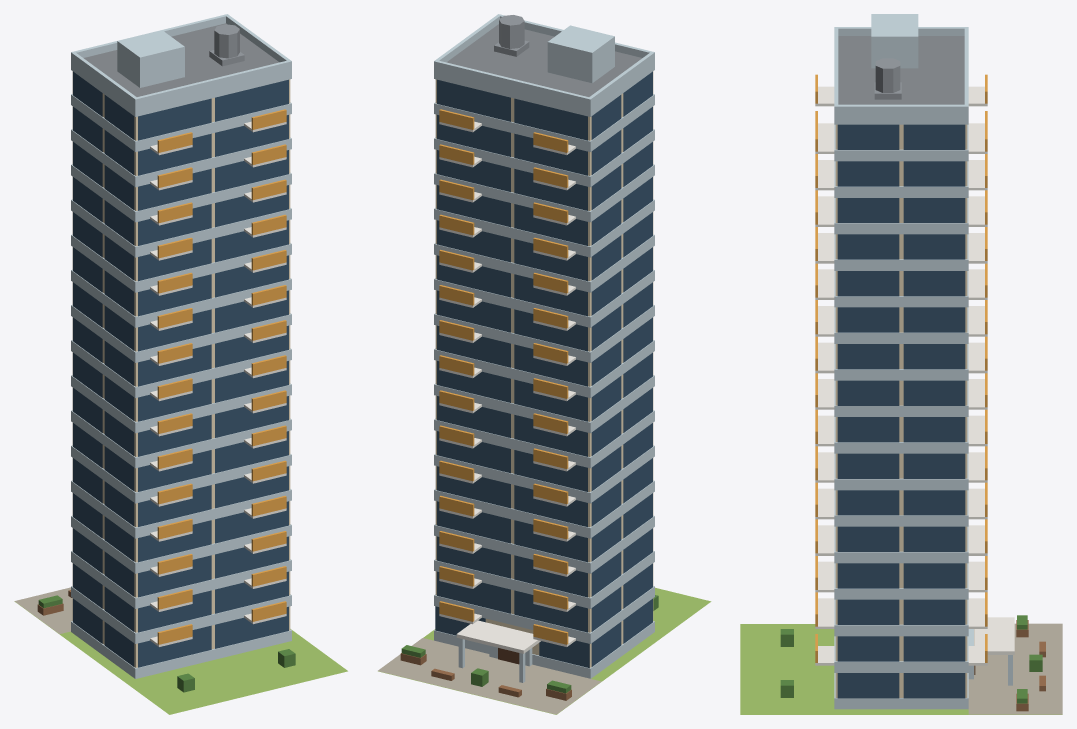
3 renders of one model, left to right at view 1: azimuth 30°, elevation 25°; view 2: azimuth 150°, elevation 25°; view 3: azimuth 270°, elevation 25°, orthographic. The views are drawn at different scales.
Visible parts, largest first — view 1: window_band (×64), spandrel (×17), lawn, walls, roof, parapet (×4), plant_room, plaza, water_tank; view 2: window_band (×63), spandrel (×17), plaza, walls, roof, parapet (×4), plant_room, lawn, canopy, water_tank; view 3: window_band (×32), spandrel (×17), lawn, roof, plaza, walls, plant_room, parapet (×2), canopy, water_tank.
Boxes of the visible parts, x1,y1,x2,y2 form: window_band (×64): (73, 71, 288, 667); spandrel (×17): (71, 59, 291, 678); lawn: (14, 601, 347, 714); walls: (72, 71, 290, 667); roof: (83, 23, 279, 96); parapet (×4): (71, 14, 291, 106); plant_room: (117, 30, 184, 87); plaza: (14, 587, 72, 633); water_tank: (214, 24, 239, 58); window_band (×63): (437, 71, 652, 667); spandrel (×17): (434, 59, 654, 678); plaza: (378, 638, 601, 714); walls: (435, 71, 653, 667); roof: (446, 24, 642, 96); parapet (×4): (434, 14, 654, 106); plant_room: (547, 25, 614, 83); lawn: (378, 587, 711, 714); canopy: (456, 620, 540, 653); water_tank: (499, 15, 524, 48); window_band (×32): (837, 124, 965, 698); spandrel (×17): (834, 113, 968, 709); lawn: (740, 624, 1062, 714); roof: (838, 36, 964, 104); plaza: (968, 623, 1062, 714); walls: (835, 124, 967, 697); plant_room: (871, 14, 918, 68); parapet (×2): (838, 27, 964, 113); canopy: (974, 617, 1014, 654); water_tank: (875, 58, 900, 92).
Size of the model in its own units: 16 by 51.5 by 24.
